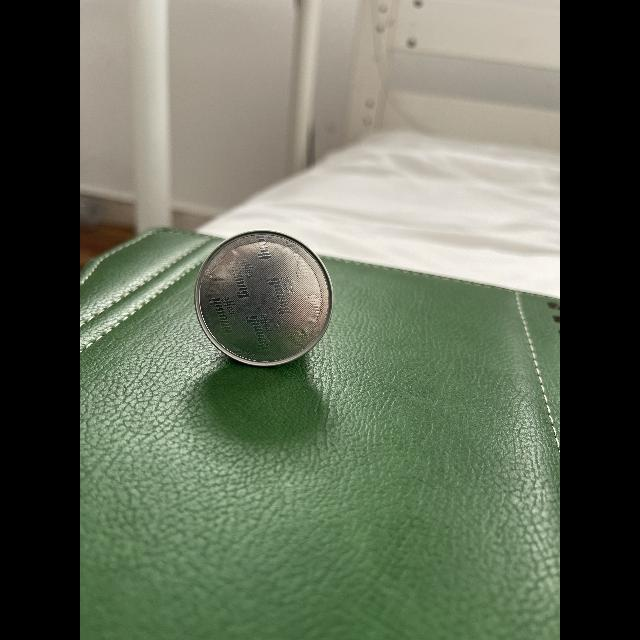intact_capsule: (186, 225, 340, 383)
